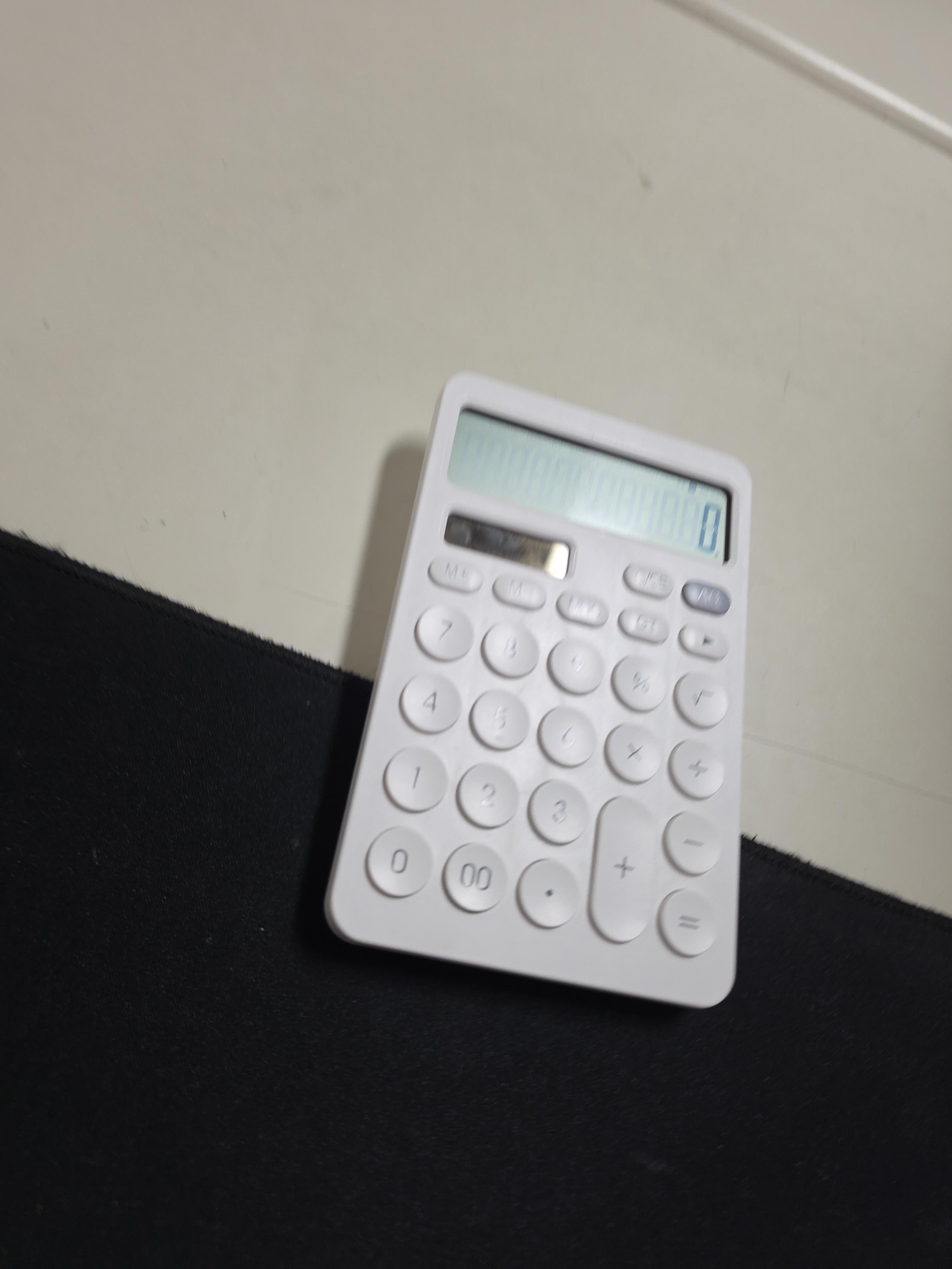calculator: (324, 370, 753, 1008)
